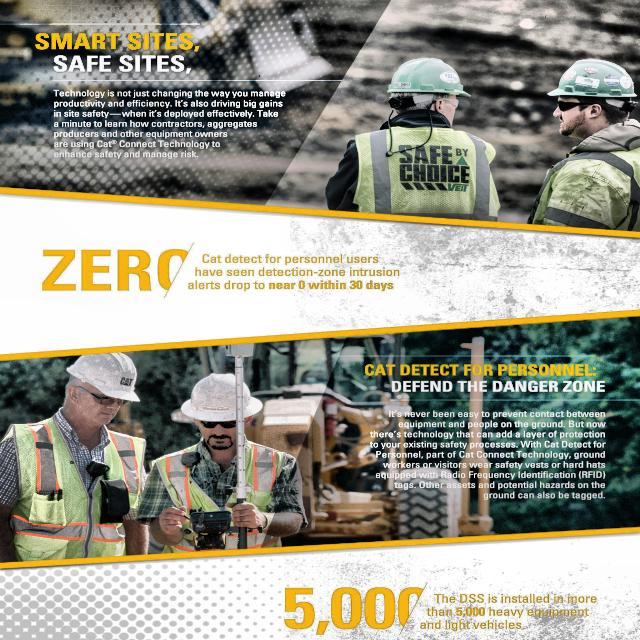safety_helmet: (544, 50, 637, 104), (380, 50, 472, 102), (68, 355, 142, 400)
safety_jacket: (154, 446, 294, 561), (2, 422, 109, 567), (344, 127, 495, 214), (534, 138, 640, 222)
